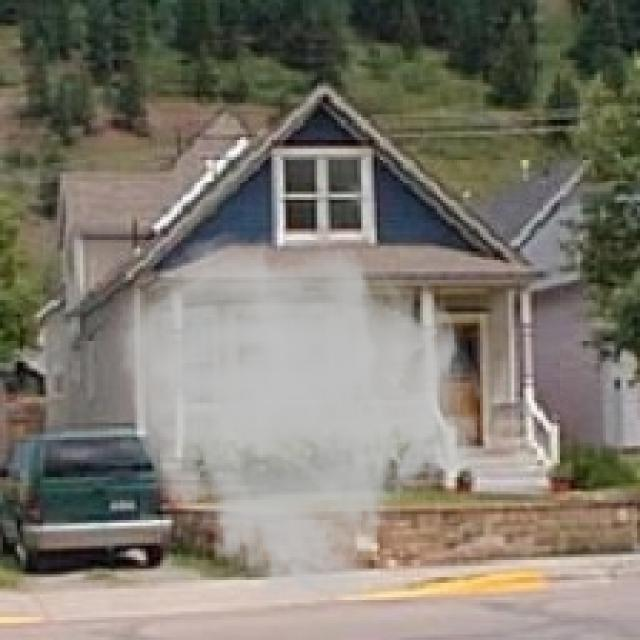smoke: (114, 229, 486, 620)
